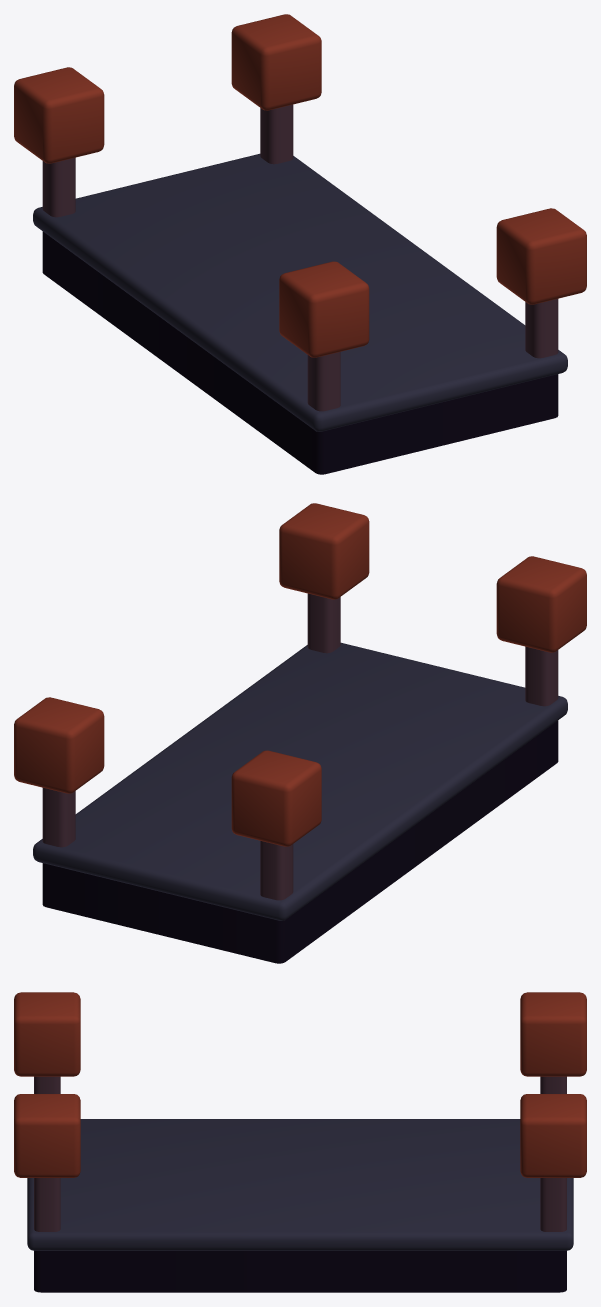
The model's file is GroundVolkano.fbx.
The picture shows the model from 3 angles, top to bottom: view 1: azimuth 30°, elevation 25°; view 2: azimuth 150°, elevation 25°; view 3: azimuth 270°, elevation 25°; orthographic projection. The views are drawn at different scales.
Visible parts, largest first — view 1: GroundVolkano; view 2: GroundVolkano; view 3: GroundVolkano.
Part boxes in pixels (x1,y1,x2,y2): GroundVolkano: (14,14,586,474); GroundVolkano: (14,503,586,963); GroundVolkano: (14,992,586,1292).
Size of the model in its own units: 920 by 600 by 1720.
